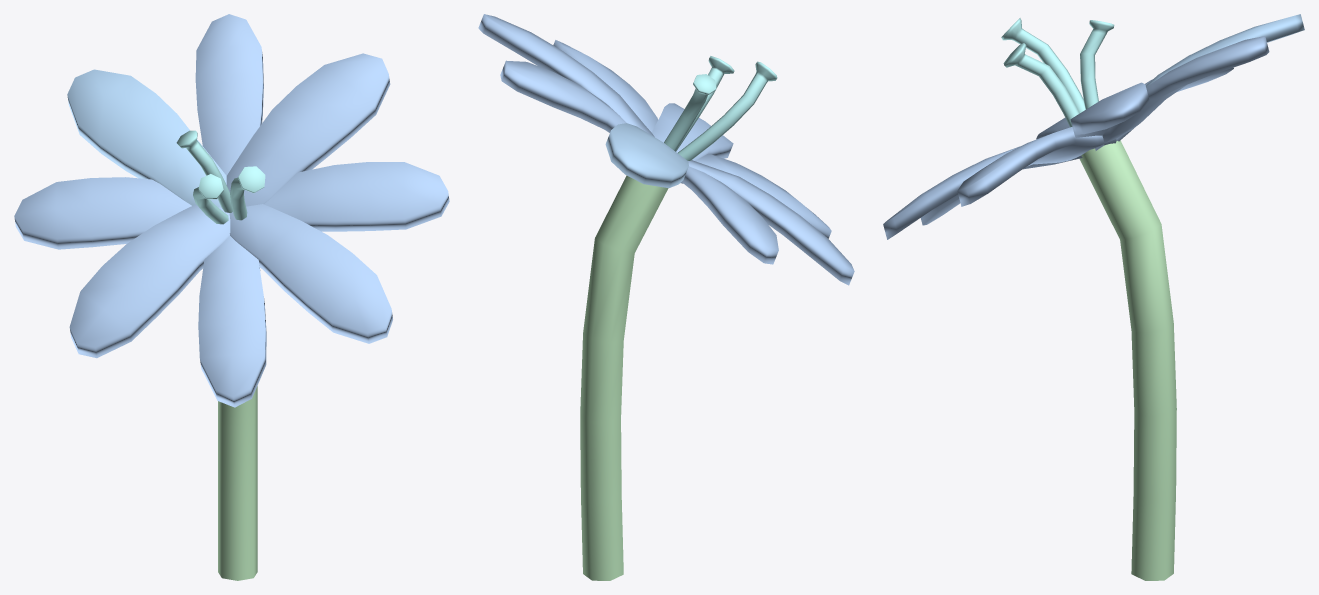
Rendered from Flower3_UV.fbx.
3 views of the same model, side by side, from view 1: azimuth 30°, elevation 25°; view 2: azimuth 150°, elevation 25°; view 3: azimuth 270°, elevation 25° (orthographic). The views are drawn at different scales.
Visible parts, largest first — view 1: Flower3_UV; view 2: Flower3_UV; view 3: Flower3_UV.
Boxes of the visible parts, x1,y1,x2,y2 form: Flower3_UV: [14, 14, 449, 580]; Flower3_UV: [478, 14, 854, 580]; Flower3_UV: [883, 14, 1304, 580].
Bounding box in the file's own units: 0.9602 × 1.41 × 0.969.
